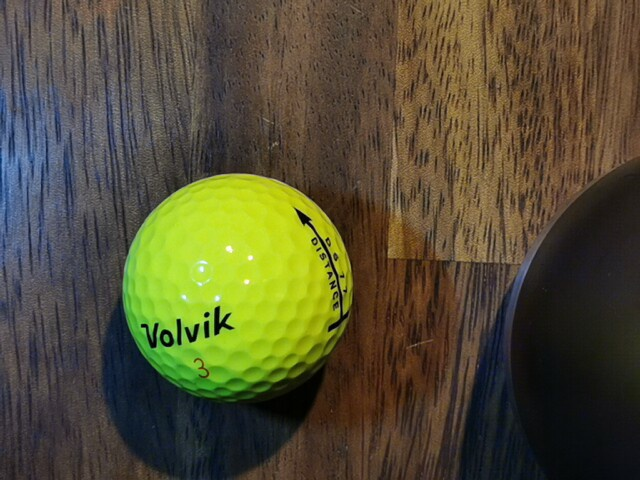Ball: (121, 173, 354, 402)
Volvik: (141, 306, 235, 349)
